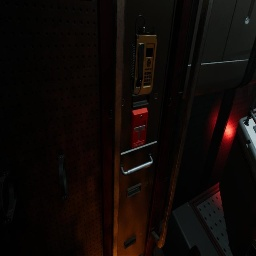EmergencyPhone ,: (130, 15, 157, 95)
FireAlarm ,: (130, 108, 148, 149)
